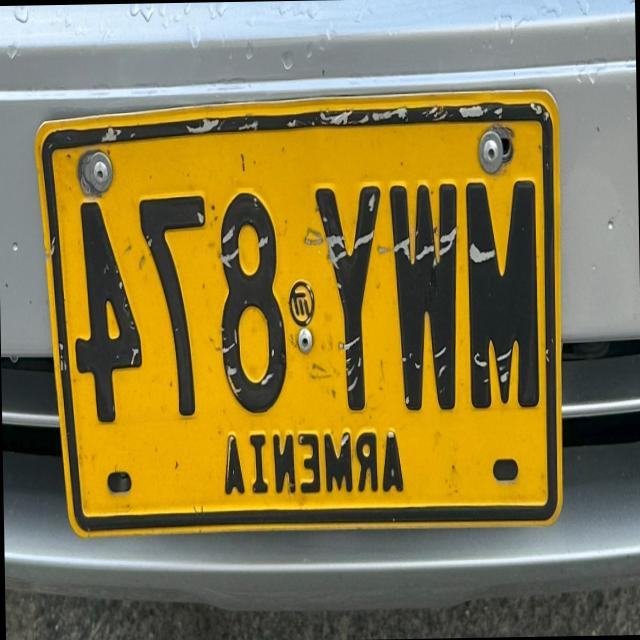number plate: (36, 91, 562, 532)
